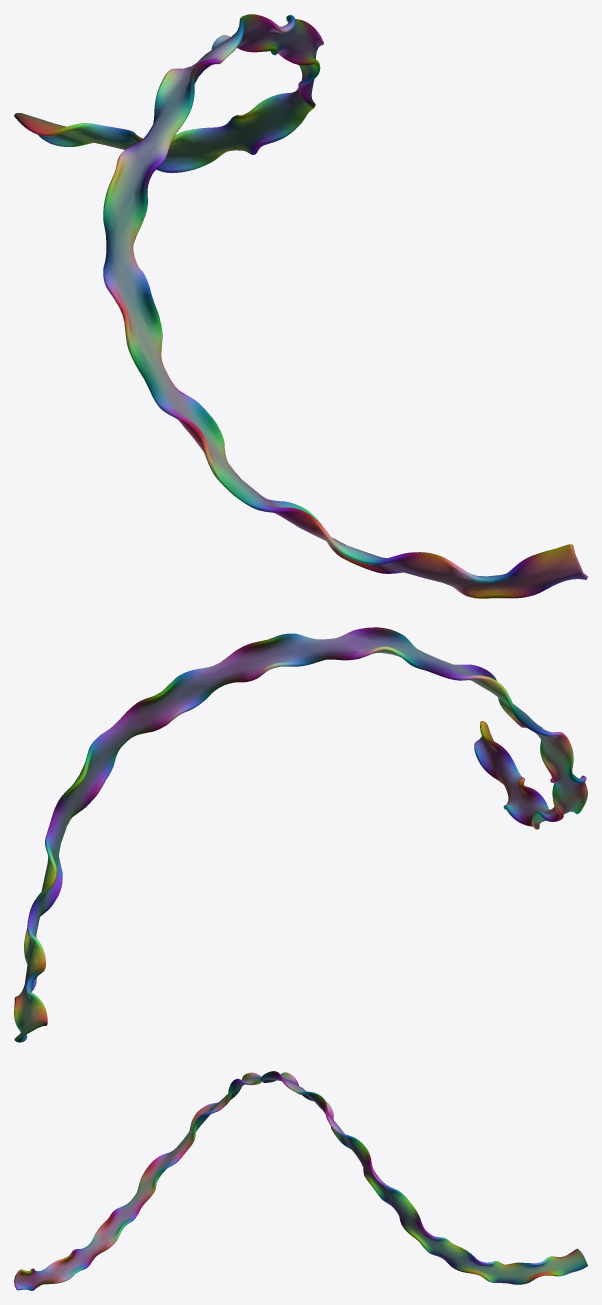
File: RibbonCurve01.fbx
3 renders of one model, top to bottom at view 1: azimuth 30°, elevation 25°; view 2: azimuth 150°, elevation 25°; view 3: azimuth 270°, elevation 25°, orthographic. The views are drawn at different scales.
Visible parts, largest first — view 1: RibbonCurve01; view 2: RibbonCurve01; view 3: RibbonCurve01.
Boxes of the visible parts, x1,y1,x2,y2 form: RibbonCurve01: (14, 14, 587, 598); RibbonCurve01: (14, 627, 587, 1042); RibbonCurve01: (14, 1071, 587, 1290).
Bounding box in the file's own units: 2.15 × 1.95 × 5.13.
